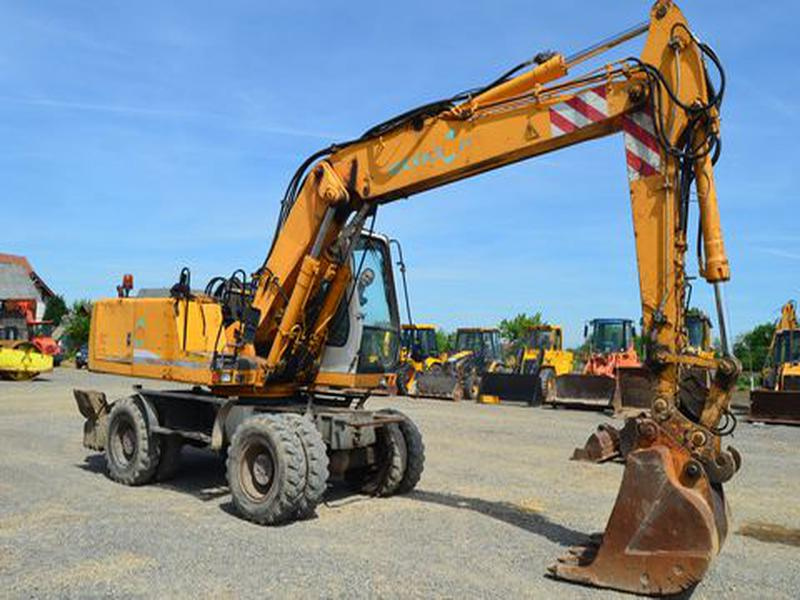shovel: (77, 1, 749, 595)
